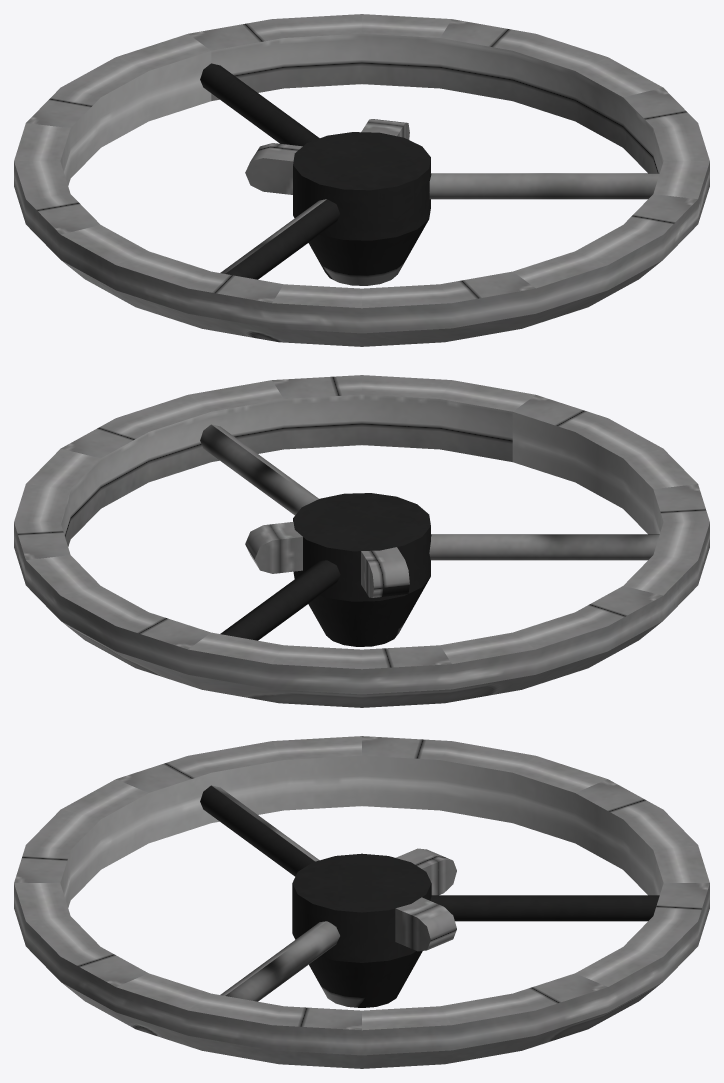
The model's file is ring base.obj.
The picture shows the model from 3 angles, top to bottom: view 1: azimuth 30°, elevation 25°; view 2: azimuth 150°, elevation 25°; view 3: azimuth 270°, elevation 25°; orthographic projection.
Visible parts, largest first — view 1: 2; view 2: 2; view 3: 2.
Part boxes in pixels (<box>): 2: <box>14,14,709,346</box>; 2: <box>14,375,709,707</box>; 2: <box>14,736,709,1068</box>.
Size of the model in its own units: 1.88 by 0.325 by 1.88.
